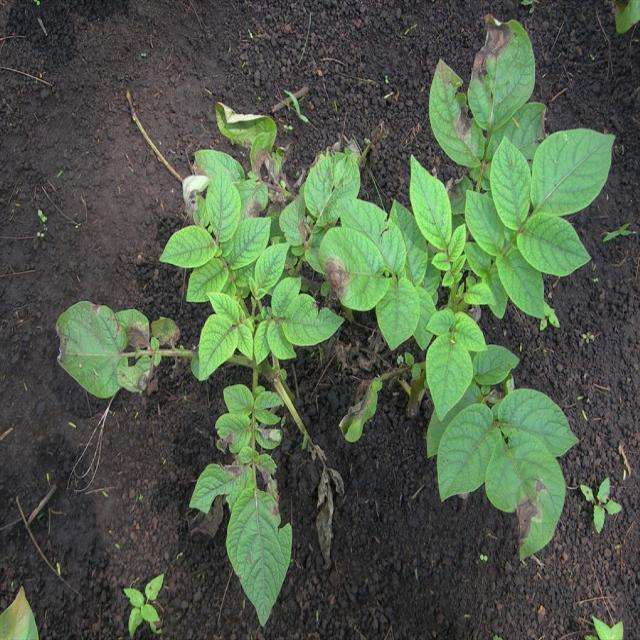Healthy Leaf: (532, 122, 618, 218), (496, 392, 580, 460), (440, 404, 502, 496), (520, 214, 592, 273), (489, 138, 533, 227), (426, 324, 470, 412), (410, 159, 455, 242), (378, 276, 418, 350), (160, 227, 220, 273), (194, 318, 236, 380), (209, 173, 236, 238)
